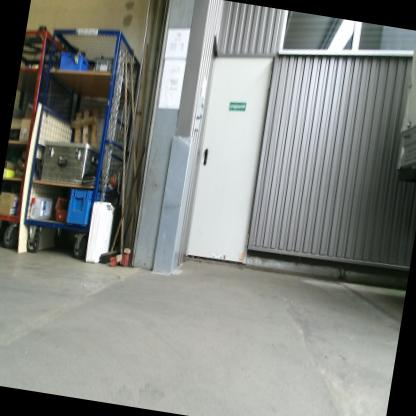small_load_carrier: (63, 186, 107, 230), (56, 50, 89, 75)
